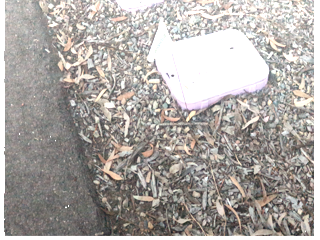Uplift: (27, 3, 108, 235)
